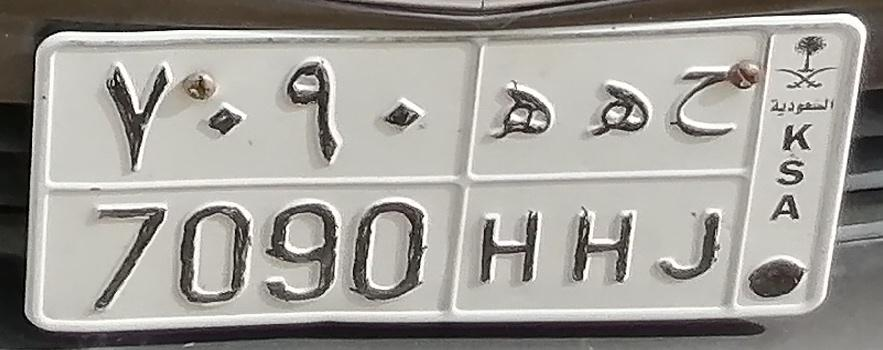0: (348, 98, 438, 300), (181, 104, 256, 306)
7: (90, 64, 177, 315)
9: (267, 60, 340, 308)
H: (565, 79, 654, 290), (473, 81, 557, 289)
J: (660, 67, 738, 283)
